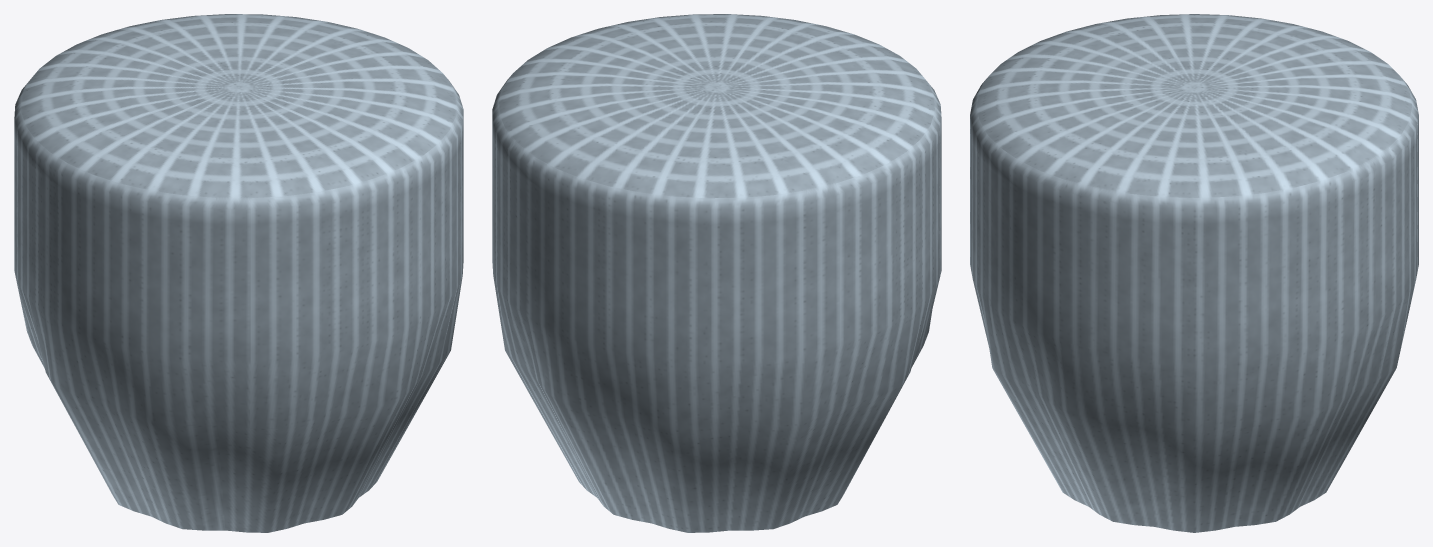
File: shell_bell.glb
3 views of the same model, side by side, from view 1: azimuth 30°, elevation 25°; view 2: azimuth 150°, elevation 25°; view 3: azimuth 270°, elevation 25° (orthographic).
Visible parts, largest first — view 1: ShellBell; view 2: ShellBell; view 3: ShellBell.
Part boxes in pixels (x1=…): ShellBell: x1=14, y1=14, x2=463, y2=532; ShellBell: x1=492, y1=14, x2=941, y2=532; ShellBell: x1=970, y1=14, x2=1418, y2=532.
Bounding box in the file's own units: 2.7 × 2.72 × 2.7.
1 material, 1 textured.
